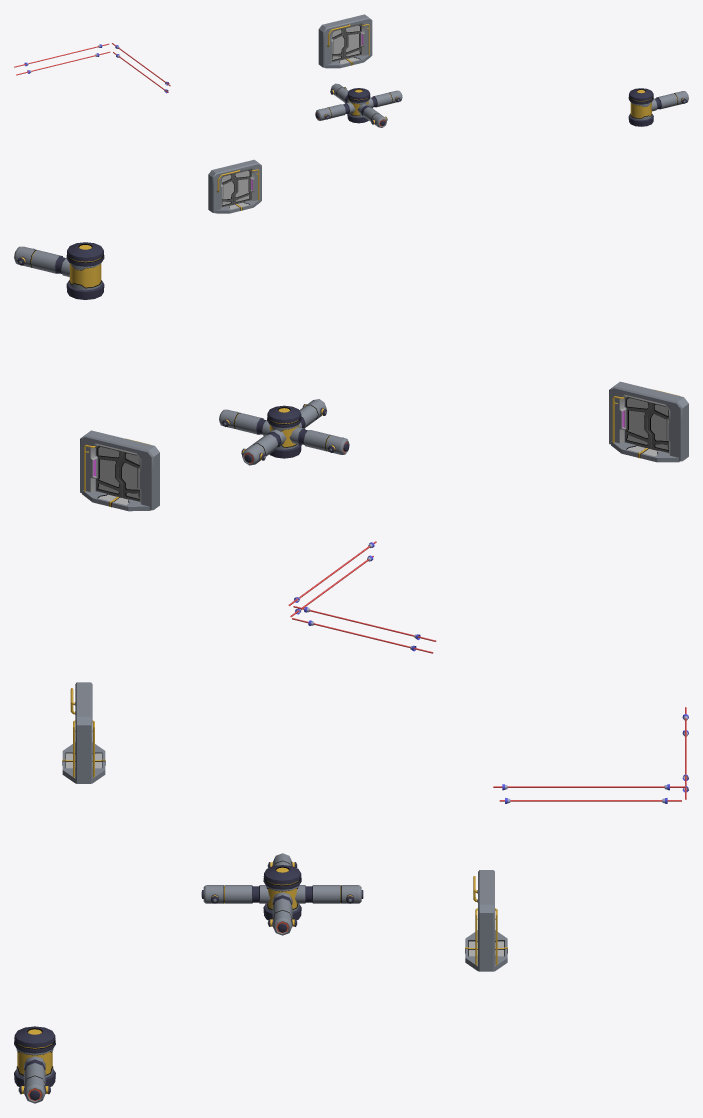
Rendered from Level42_Objects.fbx.
3 views of the same model, one above another, from view 1: azimuth 30°, elevation 25°; view 2: azimuth 150°, elevation 25°; view 3: azimuth 270°, elevation 25° (orthographic). The views are drawn at different scales.
Visible parts, largest first — view 1: Base (×2), pCylinder14 (×4), pCylinder13 (×2), Right (×2), Left (×2), Base5 (×2); view 2: Base (×2), pCylinder14 (×4), pCylinder13 (×2), Right (×2), Left (×2), Base5 (×2); view 3: pCylinder14 (×4), Base (×2), pCylinder13 (×2), Base5 (×2).
Boxes of the visible parts, box(x1,y1,x2,y2) form: Base (×2): box(208, 14, 372, 212); pCylinder14 (×4): box(315, 90, 688, 127); pCylinder13 (×2): box(347, 88, 653, 126); Right (×2): box(233, 24, 361, 204); Left (×2): box(221, 28, 346, 207); Base5 (×2): box(215, 54, 370, 213); Base (×2): box(80, 381, 688, 510); pCylinder14 (×4): box(14, 246, 349, 465); pCylinder13 (×2): box(66, 242, 301, 458); Right (×2): box(96, 396, 651, 497); Left (×2): box(118, 402, 668, 501); Base5 (×2): box(82, 441, 679, 511); pCylinder14 (×4): box(24, 885, 363, 1103); Base (×2): box(75, 682, 494, 971); pCylinder13 (×2): box(14, 865, 301, 1086); Base5 (×2): box(62, 742, 507, 970).
Bounding box in the file's own units: 527 × 43.23 × 390.
